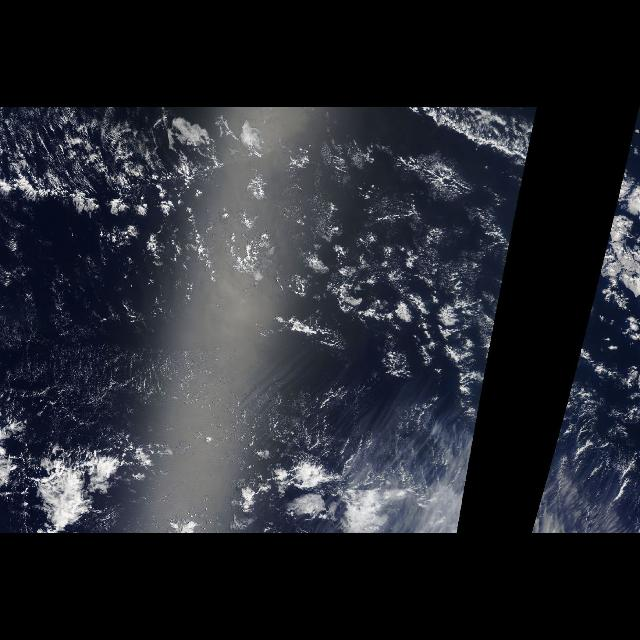Flower: (8, 128, 528, 384)
